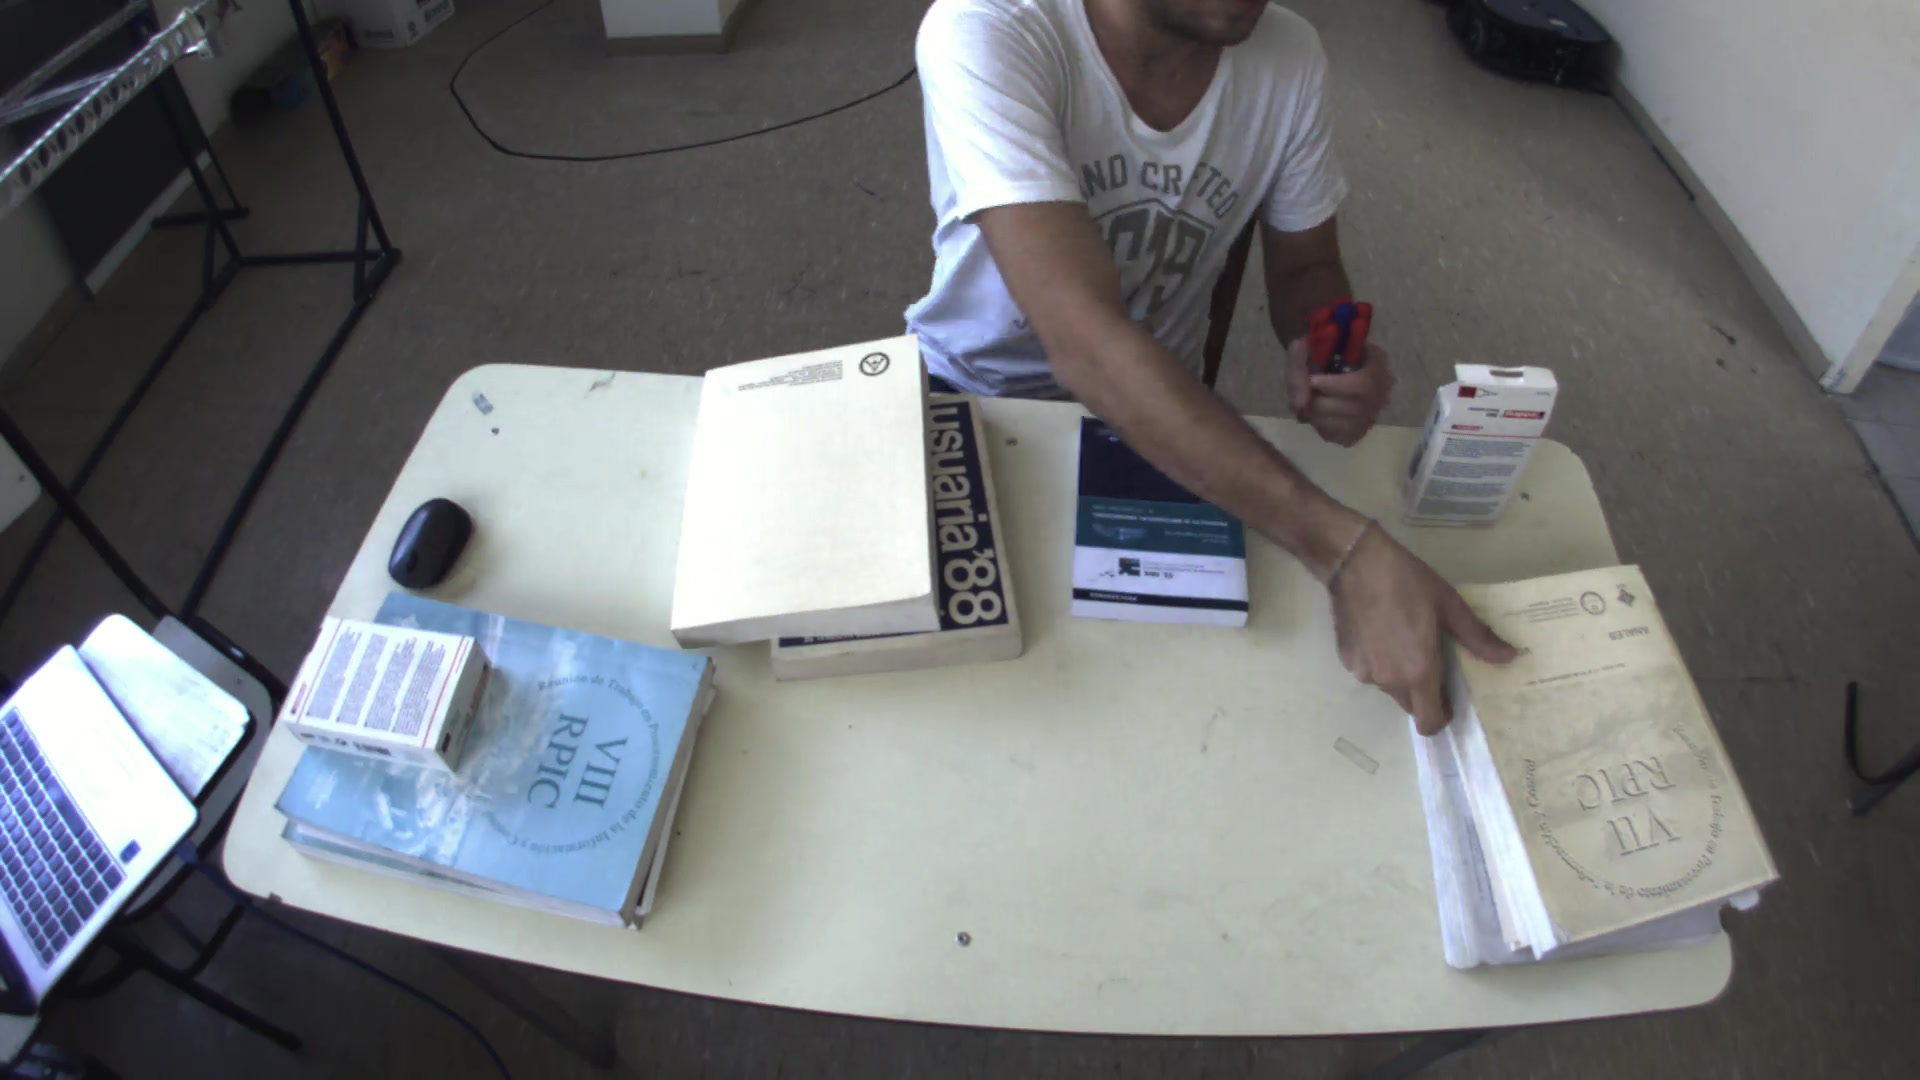hand: (1315, 534, 1538, 723), (1291, 293, 1406, 455)
